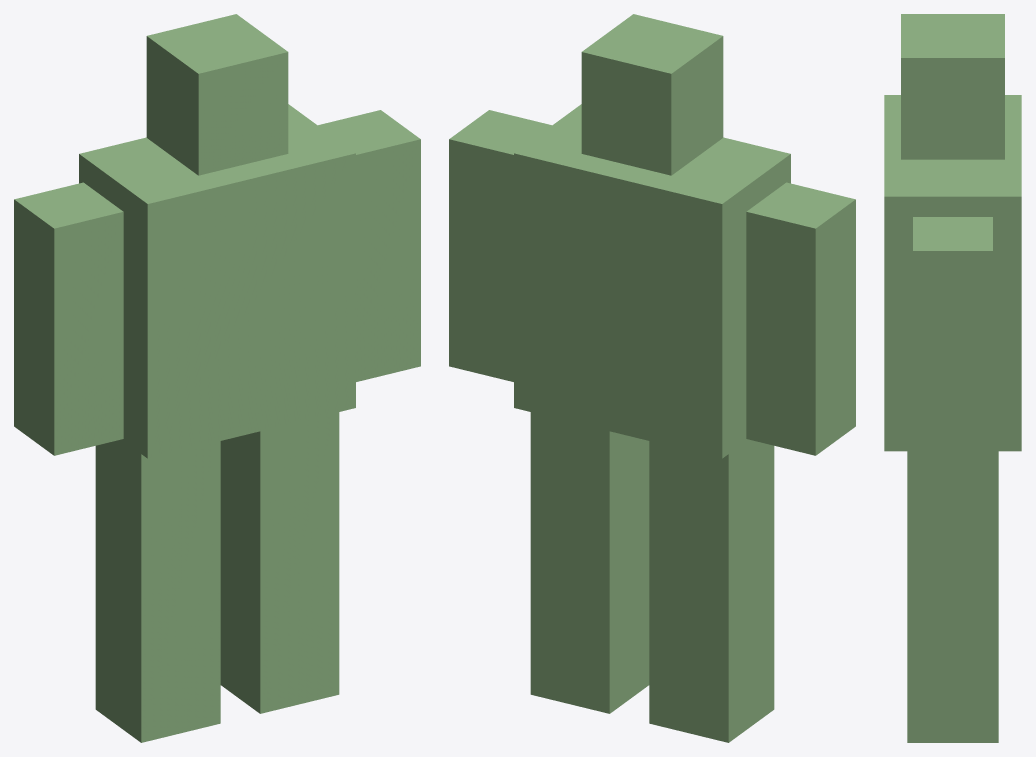
File: goblin.glb
3 views of the same model, side by side, from view 1: azimuth 30°, elevation 25°; view 2: azimuth 150°, elevation 25°; view 3: azimuth 270°, elevation 25° (orthographic).
Parts seen in each view (by area): view 1: goblin; view 2: goblin; view 3: goblin.
Part boxes in pixels (left/top/right/bottom): goblin: left=14, top=14, right=420, bottom=742; goblin: left=449, top=14, right=855, bottom=742; goblin: left=884, top=14, right=1021, bottom=742.
Bounding box in the file's own units: 0.666 × 1.14 × 0.216.
